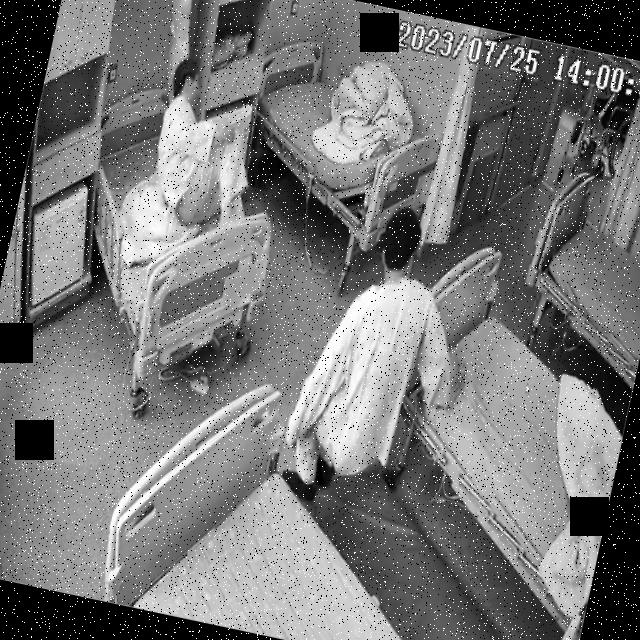bed: (352, 227, 640, 625), (107, 357, 467, 640), (59, 73, 312, 361), (240, 31, 454, 222), (518, 165, 640, 376)
danger: (270, 192, 493, 532), (144, 55, 268, 234)
patient: (272, 192, 492, 524), (143, 55, 269, 236)
